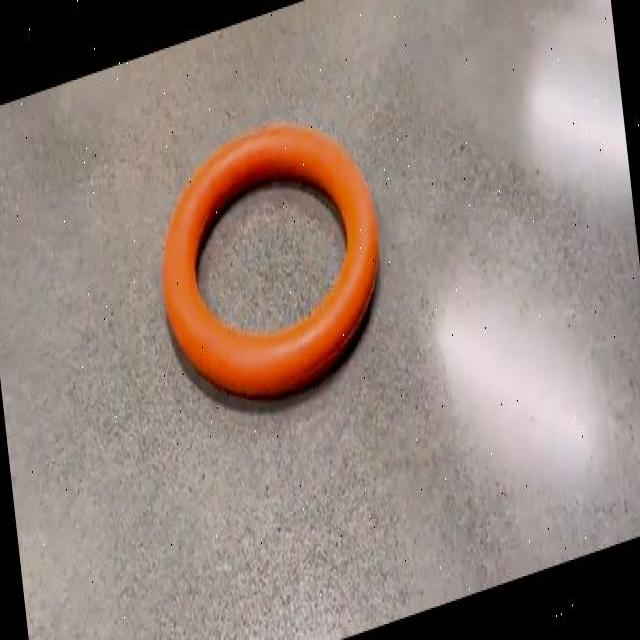note: (162, 124, 379, 396)
